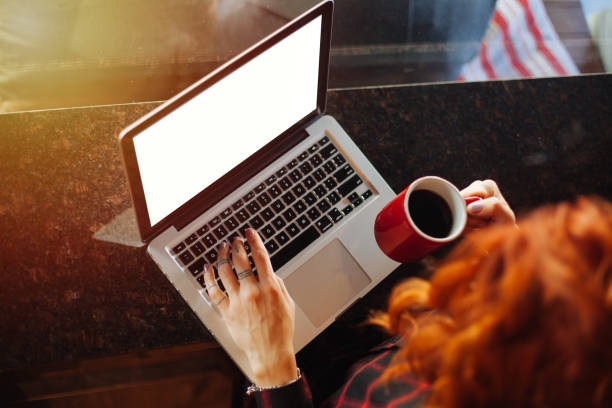keyboard: (168, 135, 379, 310)
laptop: (119, 1, 422, 375)
